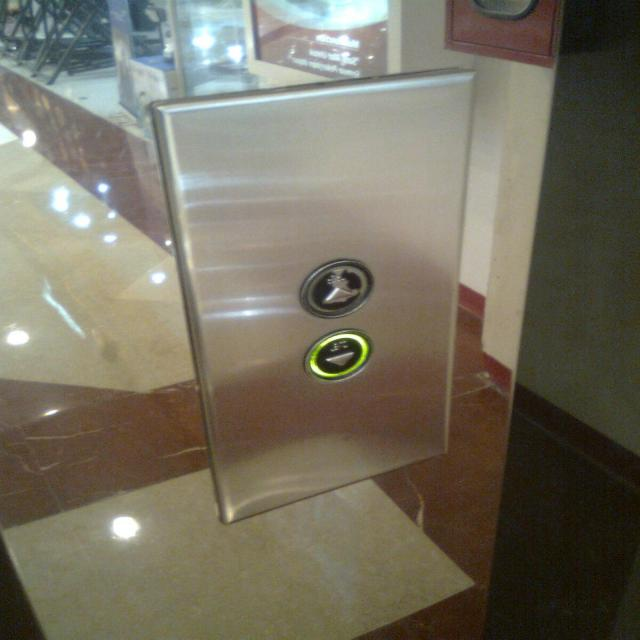down: (303, 326, 374, 385)
up: (294, 258, 374, 320)
